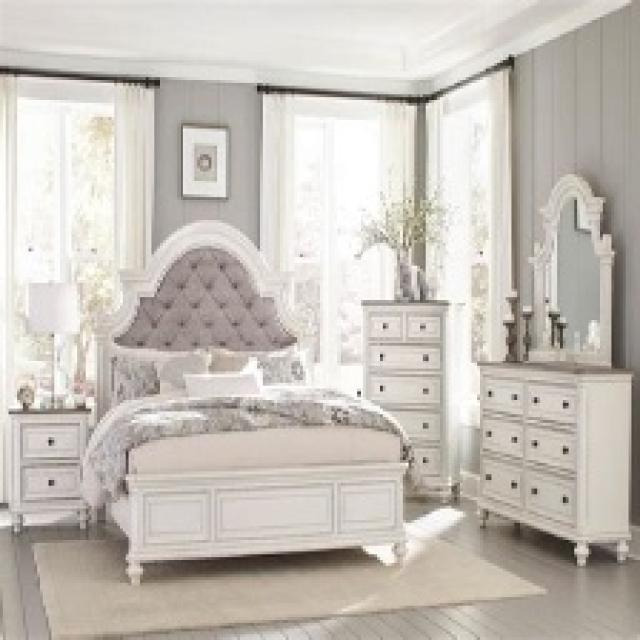Bed: (83, 217, 411, 586)
cabinet: (478, 359, 626, 542)
drawers: (358, 299, 447, 412), (12, 409, 84, 532)
mirror: (546, 190, 615, 364)
